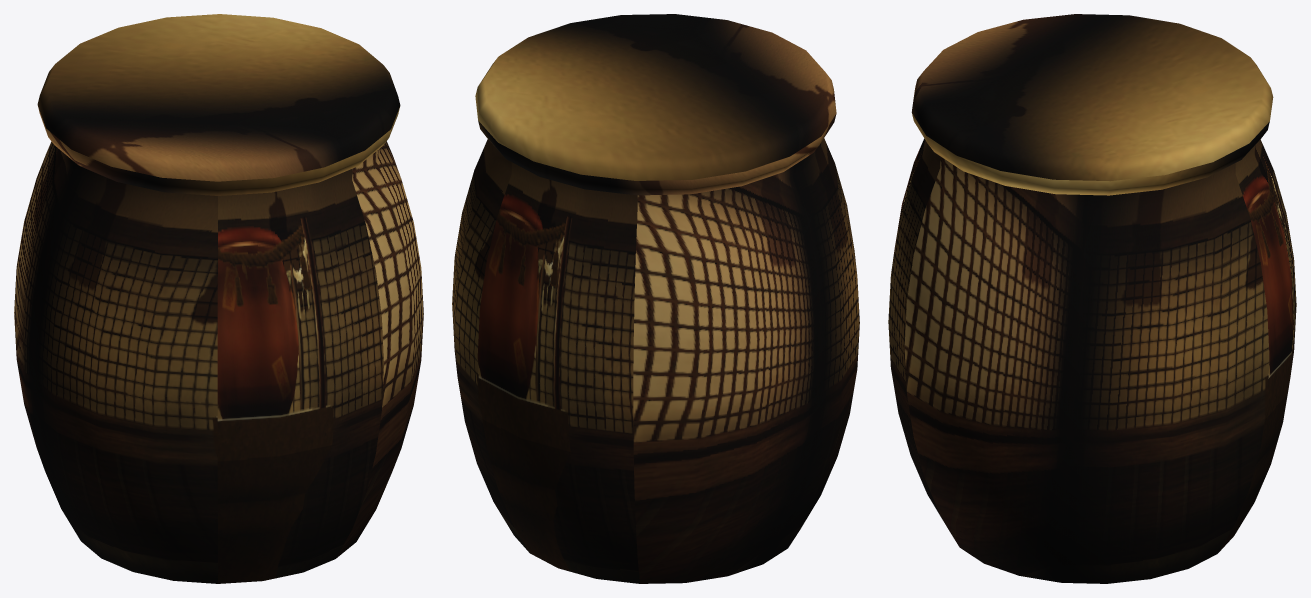
The model's file is urn.fbx.
3 views of the same model, side by side, from view 1: azimuth 30°, elevation 25°; view 2: azimuth 150°, elevation 25°; view 3: azimuth 270°, elevation 25° (orthographic).
Visible parts, largest first — view 1: urn; view 2: urn; view 3: urn.
Part boxes in pixels (x1,y1,x2,y2): urn: [14, 14, 423, 583]; urn: [452, 14, 859, 583]; urn: [888, 14, 1296, 583].
Bounding box in the file's own units: 1.54 × 1.81 × 1.54.
